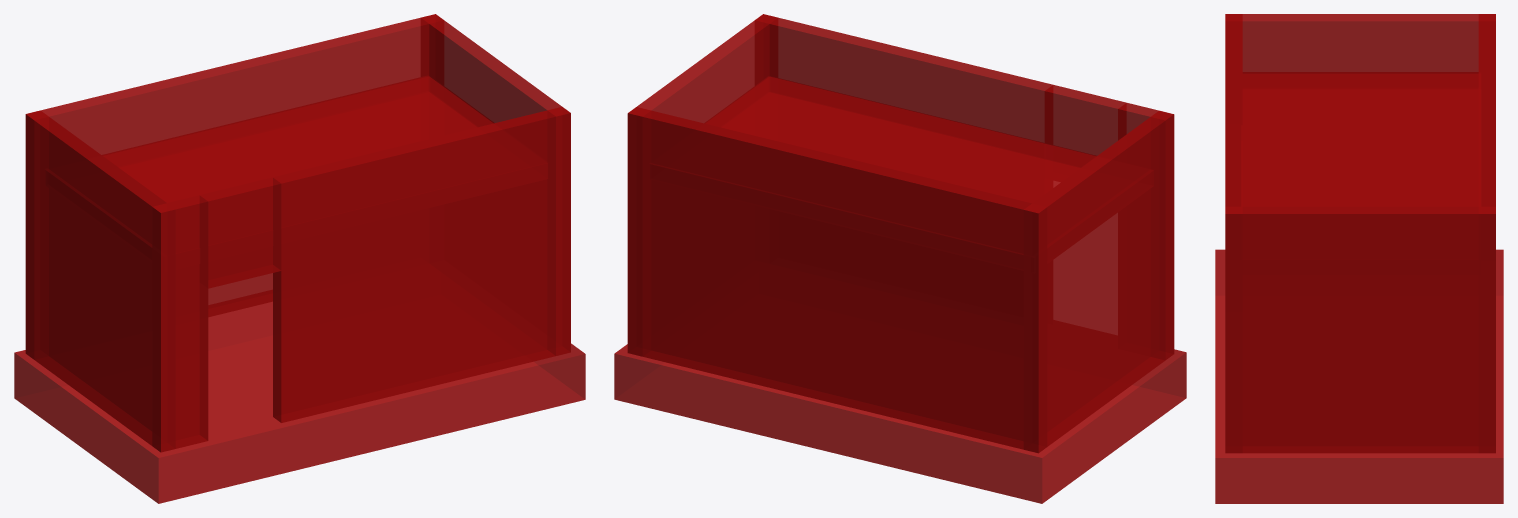
Rendered from SM_Bld_Village_House_05_Collision.fbx.
3 views of the same model, side by side, from view 1: azimuth 30°, elevation 25°; view 2: azimuth 150°, elevation 25°; view 3: azimuth 270°, elevation 25° (orthographic).
Visible parts, largest first — view 1: SM_Bld_Village_House_05_Collision; view 2: SM_Bld_Village_House_05_Collision; view 3: SM_Bld_Village_House_05_Collision.
Part boxes in pixels (x1,y1,x2,y2): SM_Bld_Village_House_05_Collision: [14, 14, 585, 503]; SM_Bld_Village_House_05_Collision: [614, 14, 1186, 503]; SM_Bld_Village_House_05_Collision: [1215, 14, 1503, 503].
Bounding box in the file's own units: 717 × 458 × 419.
